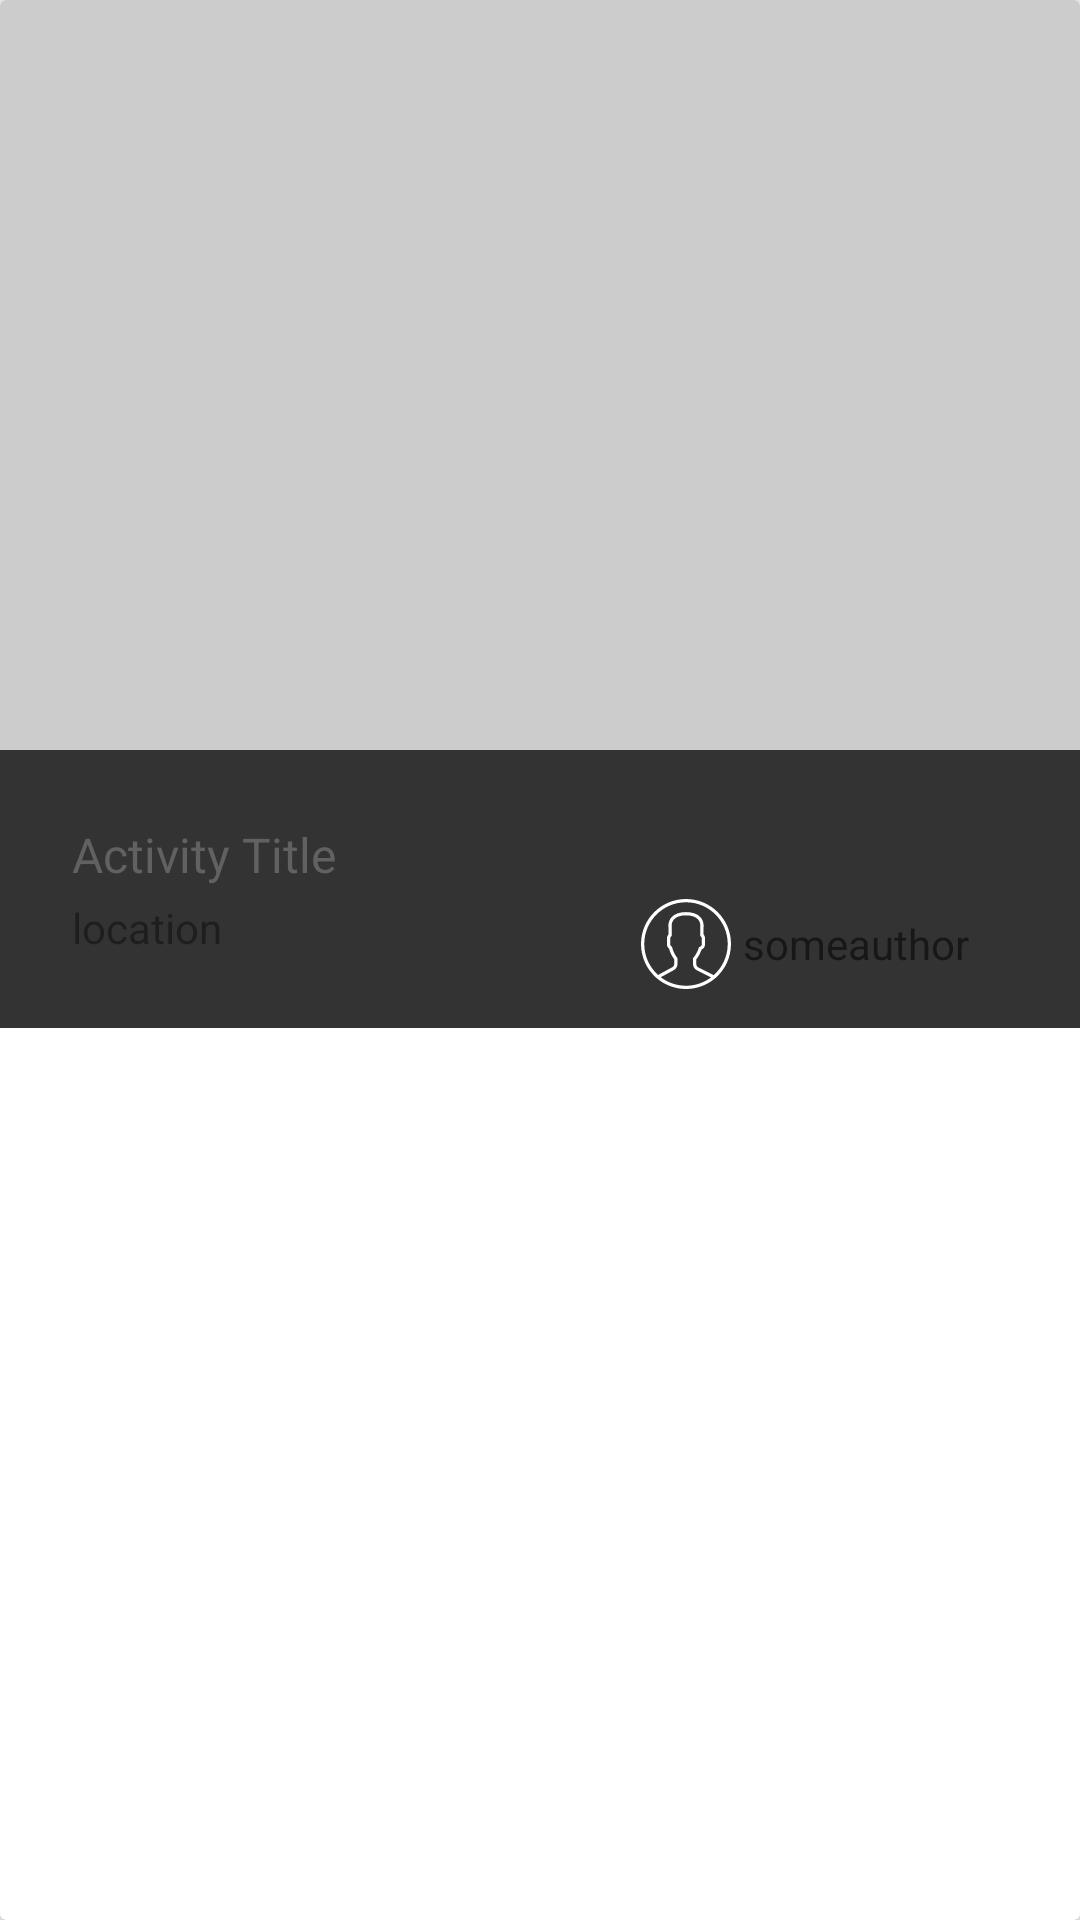

Point at icon controls on the screen. Image size 1080×1920, points as [x,y].
Post's Author profile Image: [686,944]
